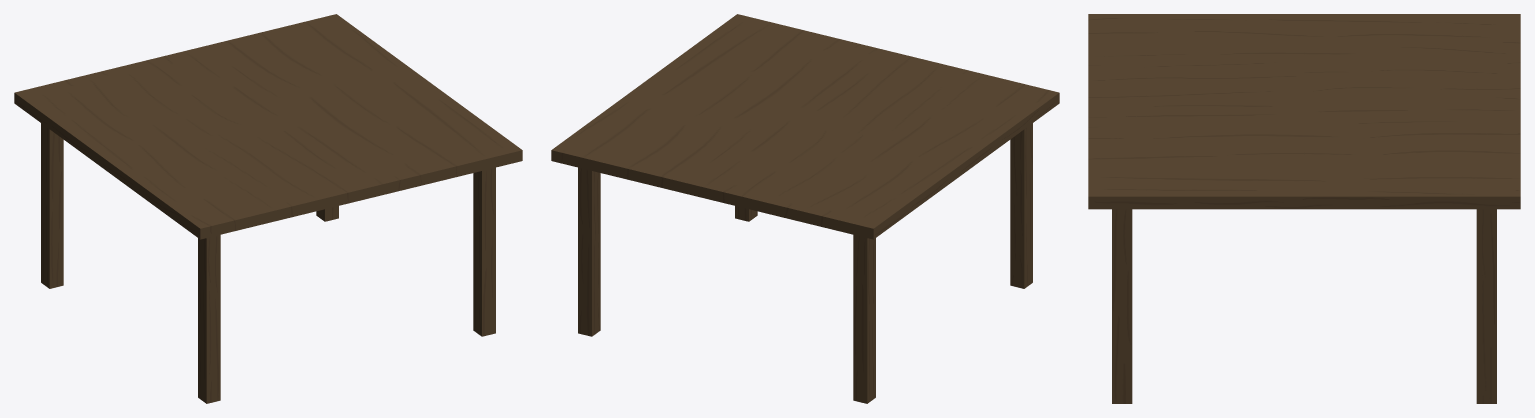
File: table.fbx
3 renders of one model, left to right at view 1: azimuth 30°, elevation 25°; view 2: azimuth 150°, elevation 25°; view 3: azimuth 270°, elevation 25°, orthographic. The views are drawn at different scales.
Visible parts, largest first — view 1: table; view 2: table; view 3: table.
Boxes of the visible parts, left/top/right/bottom form: table: left=14, top=14, right=522, bottom=403; table: left=551, top=14, right=1059, bottom=403; table: left=1088, top=14, right=1520, bottom=403.
Size of the model in its own units: 200 by 111 by 200.
Materials: 1 (1 with a texture image).
